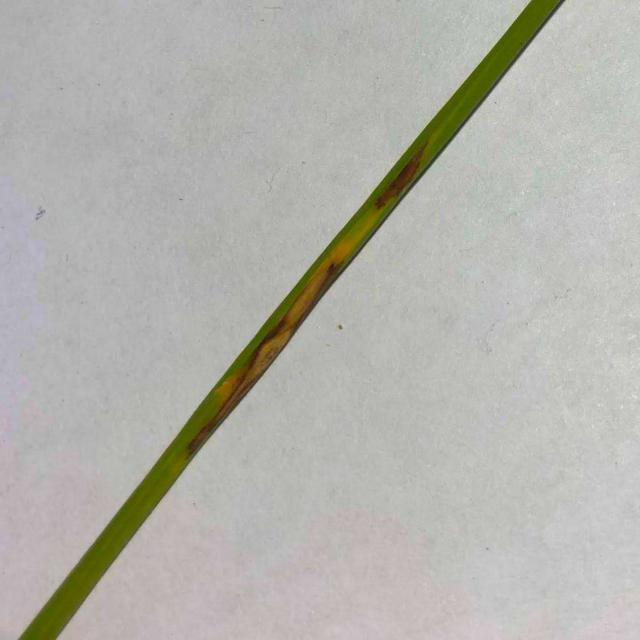Blast: (381, 149, 416, 204), (214, 382, 236, 423), (317, 246, 339, 287), (294, 282, 314, 326), (239, 348, 261, 386), (266, 321, 288, 358), (186, 416, 208, 450)
